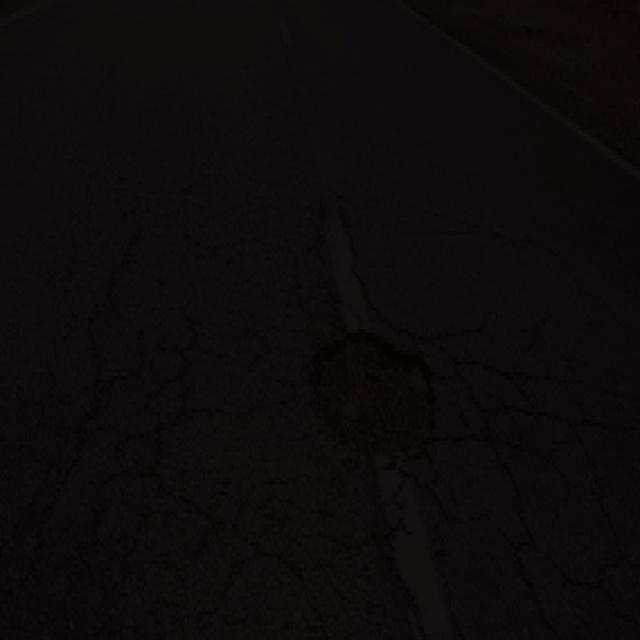Pothole: (298, 325, 441, 464)
